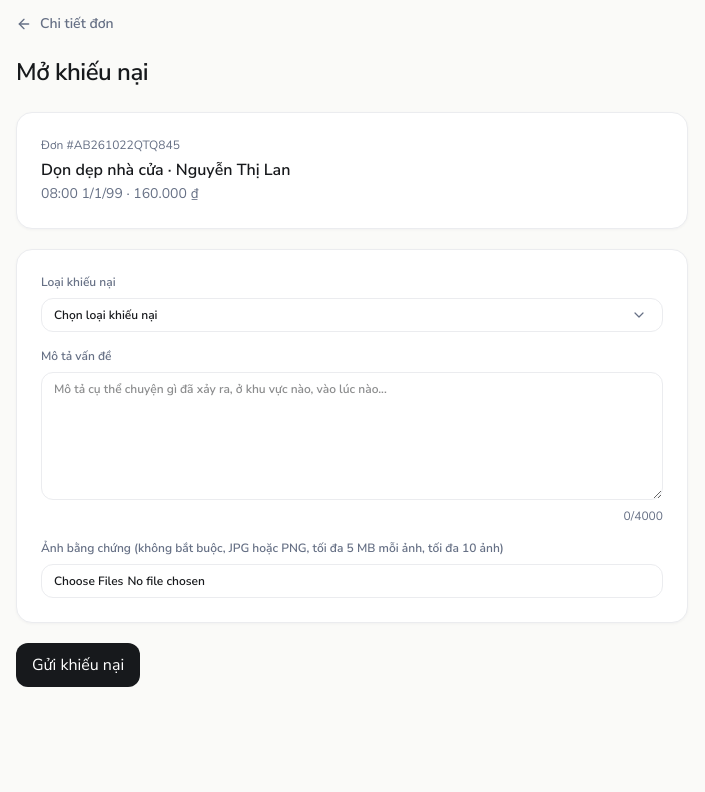
it: opening a dispute › shows the server reason when the dispute cannot be created
The width and height of the screenshot is (705, 792).
Select "Thiệt hại tài sản" in the dropdown labelled "Loại khiếu nại": (352, 315) [41,298,663,332]
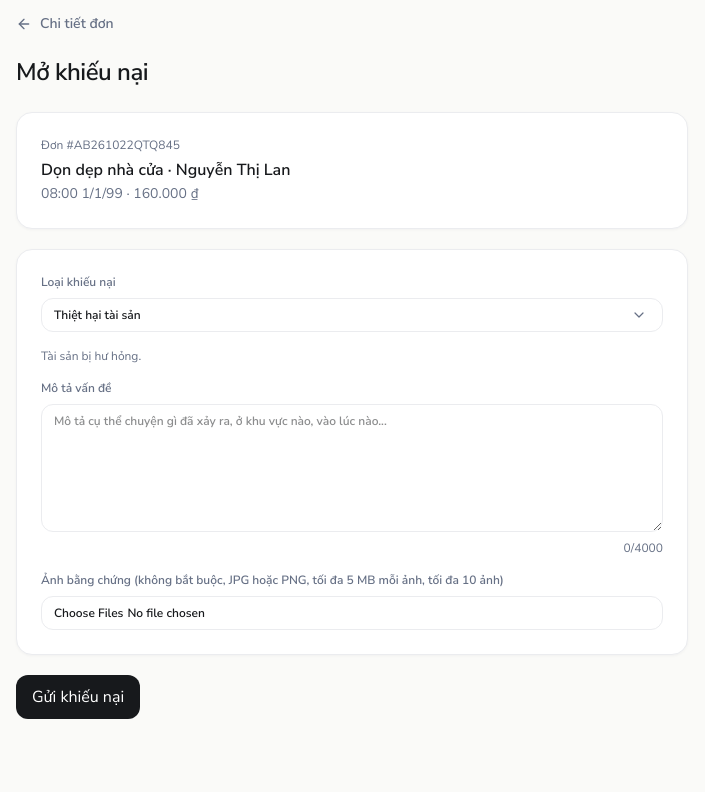
Replace the text in the text box labelled "Mô tả vấn đề 0/4000" with "Tủ bị trầy xước nhiều chỗ.": (352, 468) [41,404,663,532]
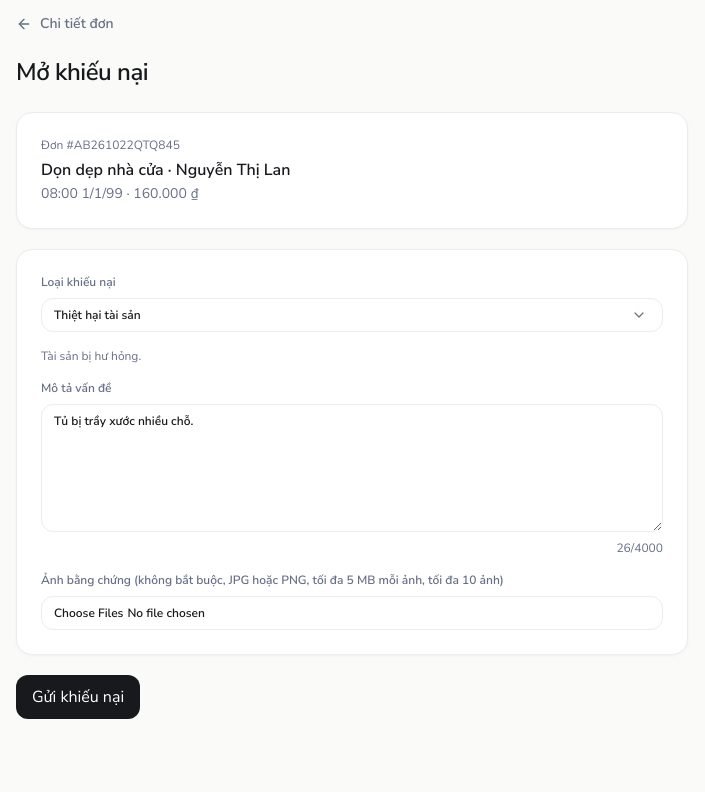
Click the button "Gửi khiếu nại": (78, 697) [16,675,140,719]
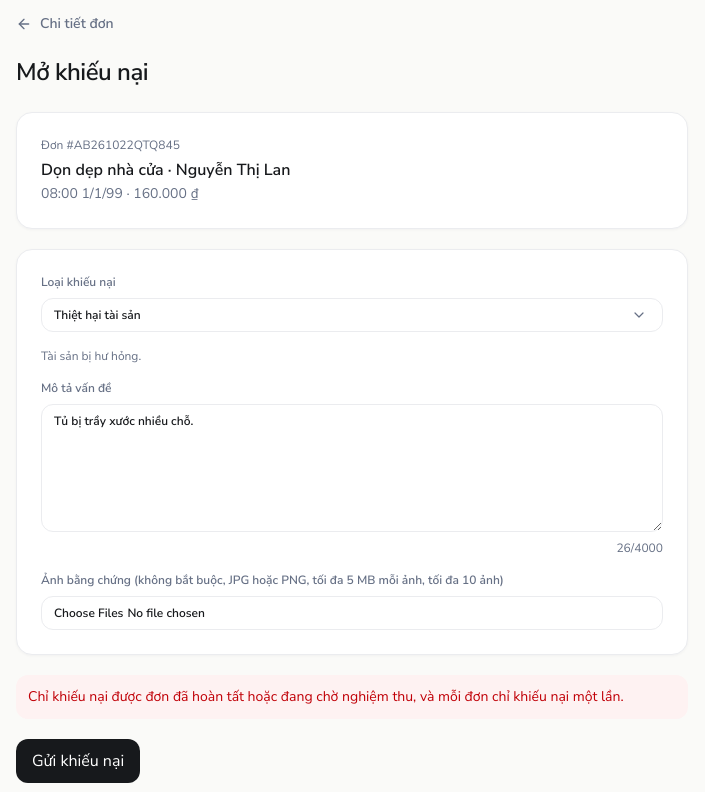
Result: the message shows "mỗi đơn chỉ khiếu nại một lần" at [28,687,624,706]
